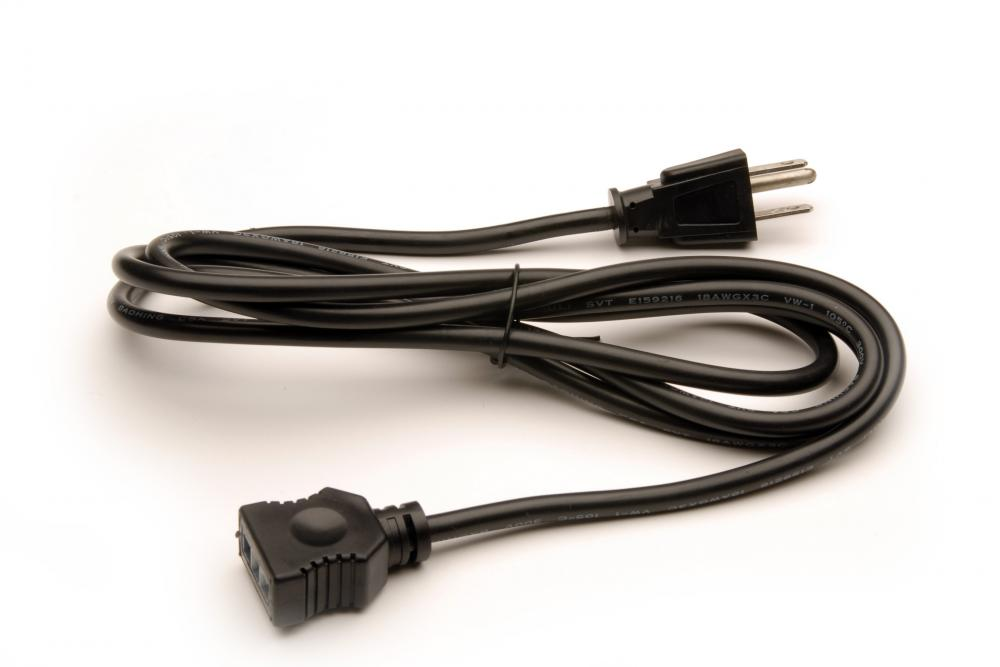Nonrec_Tangler: (99, 144, 882, 617)
